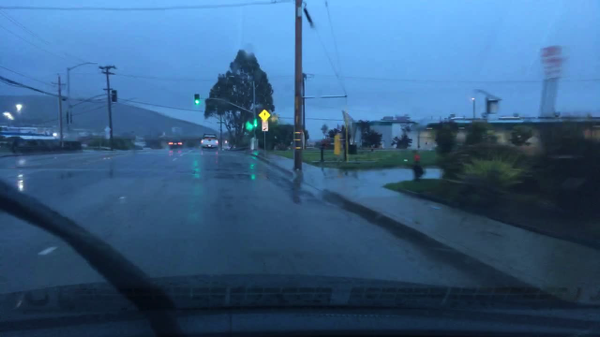car: (199, 132, 219, 149), (168, 136, 183, 149)
person: (412, 149, 423, 183)
traffic light: (244, 120, 254, 131), (111, 90, 118, 102), (194, 94, 201, 104), (253, 118, 258, 127)
traffic sign: (259, 108, 270, 120), (261, 119, 269, 132)
